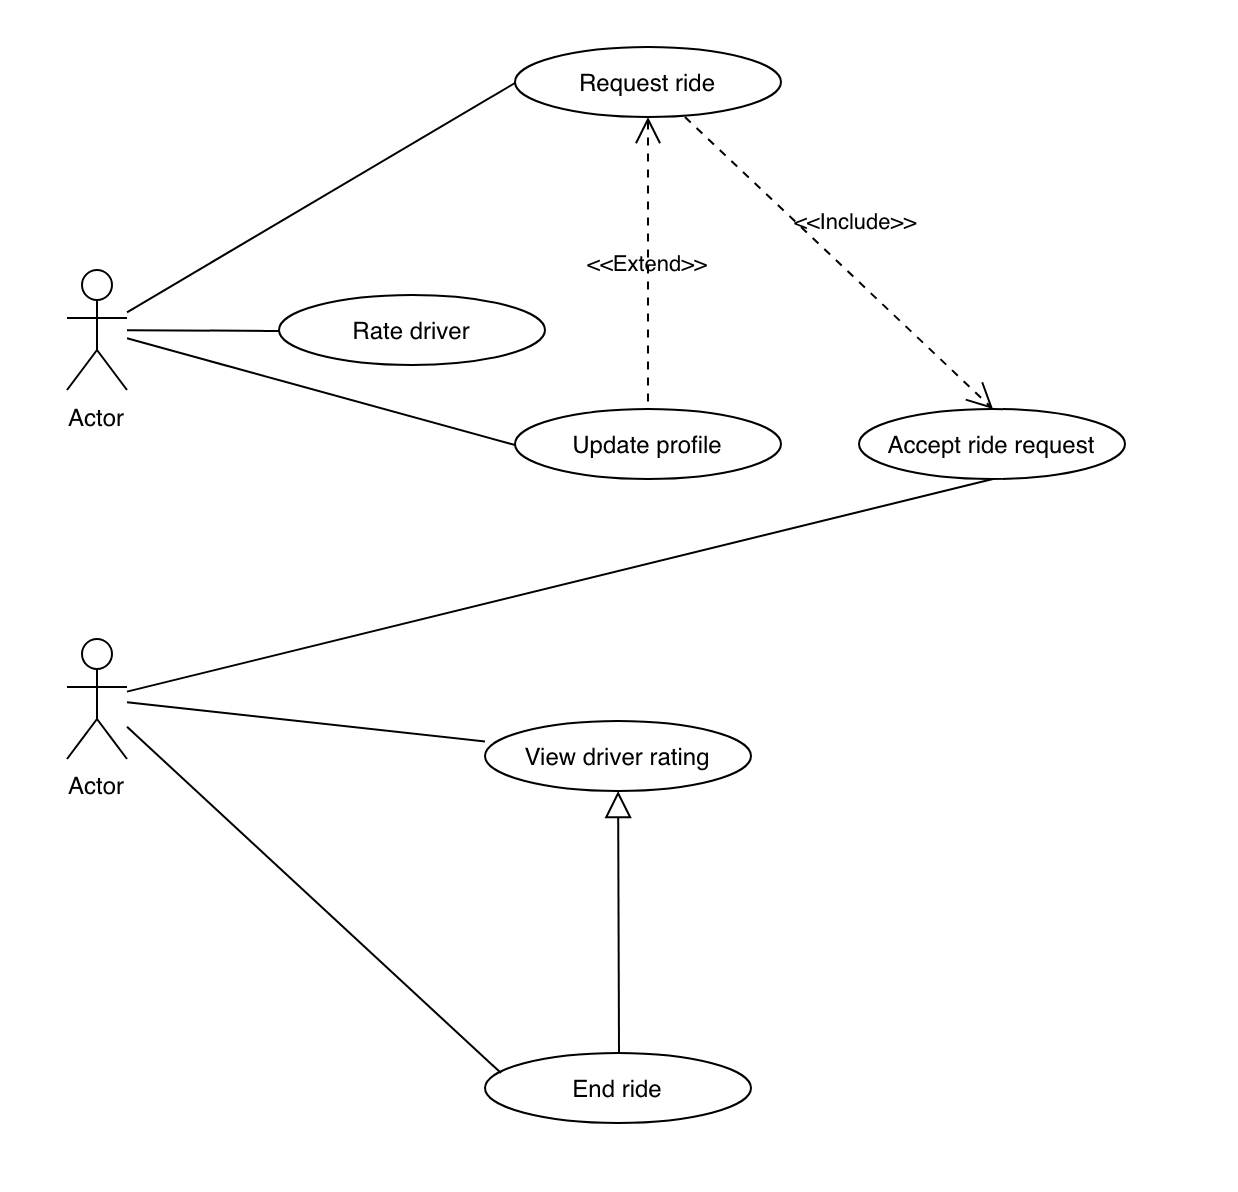actor: (56, 265, 143, 396), (57, 636, 134, 767)
association: (127, 479, 985, 693), (127, 722, 502, 1073), (684, 117, 998, 412), (127, 81, 514, 313), (127, 336, 516, 447), (126, 696, 486, 747), (602, 790, 634, 1052), (633, 117, 662, 402), (128, 321, 279, 341)
text: (522, 739, 715, 774), (886, 431, 1099, 460), (568, 428, 736, 461), (576, 63, 718, 98), (786, 201, 917, 238), (584, 249, 714, 282), (340, 317, 480, 348), (567, 1069, 670, 1107), (64, 402, 141, 432), (62, 774, 132, 801)
use_case: (508, 404, 785, 483), (483, 1048, 757, 1127), (486, 717, 756, 796), (274, 292, 546, 369), (856, 406, 1126, 483), (508, 48, 784, 121)
